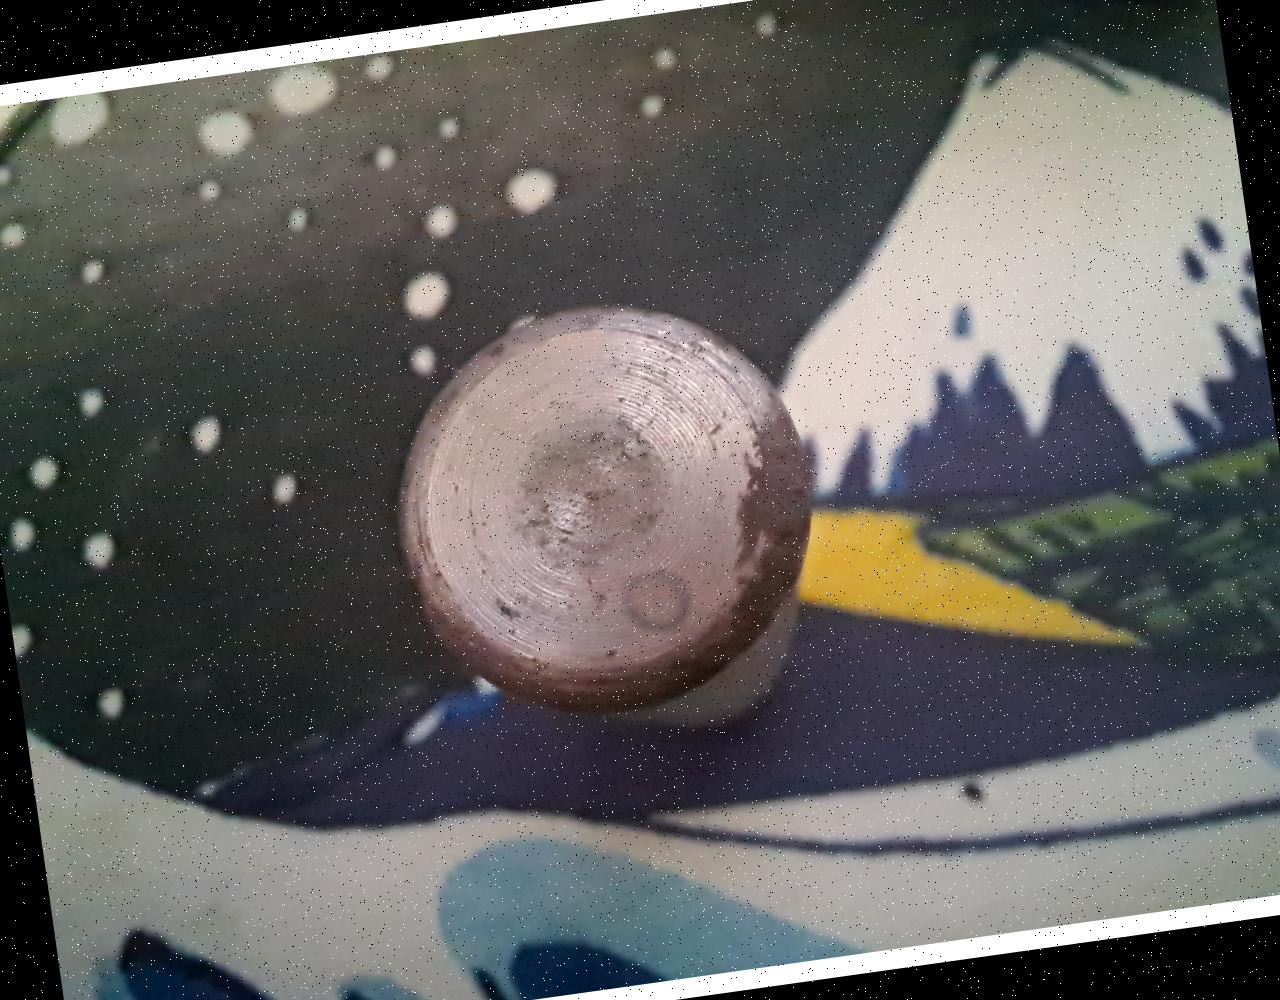defect: (620, 568, 699, 640)
planson: (389, 308, 815, 734)
